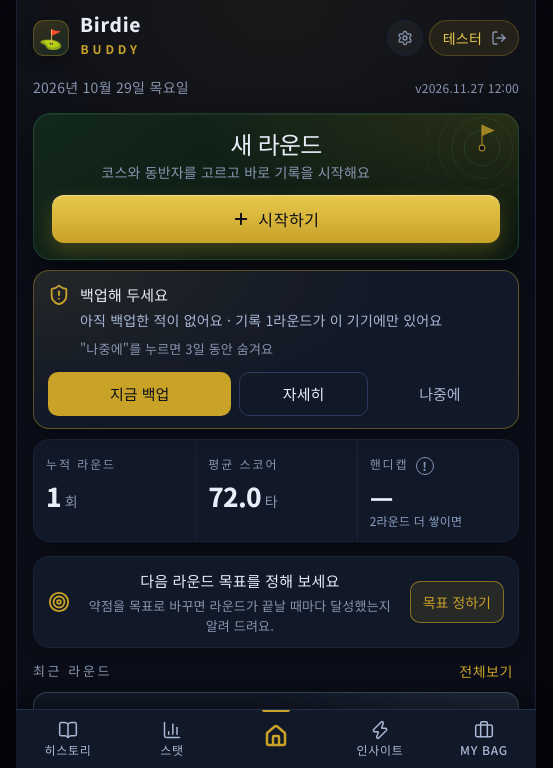
스탯 숏게임 탭 › 스탯 탭이 여섯 개이고, 숏게임은 어프로치와 퍼팅 사이에 있다
Check: the heading "새 라운드" is shown, box top-left (230, 126), bottom-right (322, 161)
Click the button titled "스탯": (172, 739) top-left (120, 710), bottom-right (224, 767)
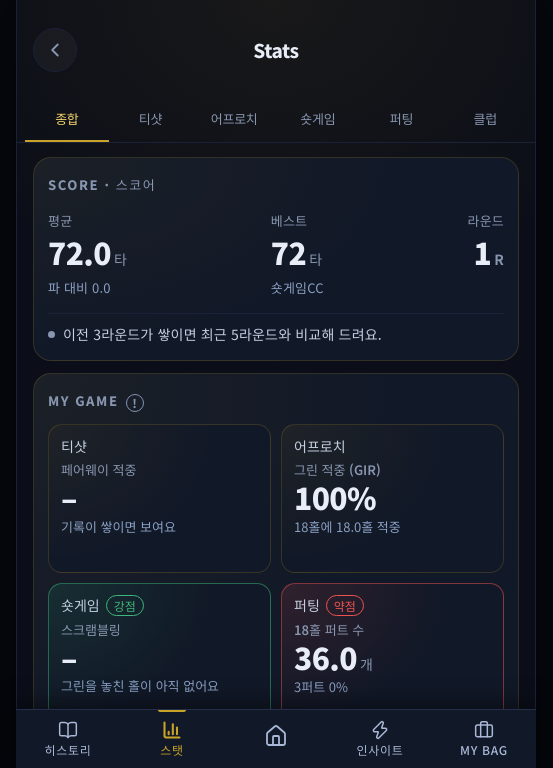
Check: the text "Stats" is shown, box top-left (253, 37), bottom-right (299, 63)
